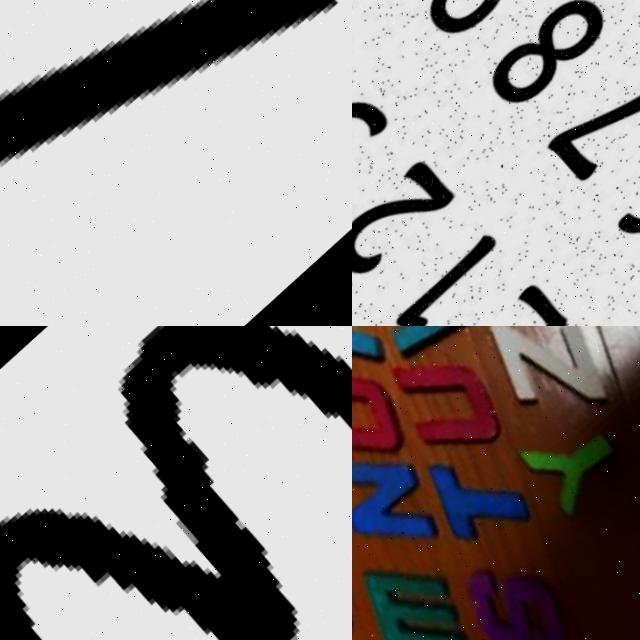1: (376, 218, 518, 326)
2: (352, 138, 473, 310)
3: (0, 326, 352, 640), (352, 72, 402, 231)
6: (588, 113, 640, 286)
7: (528, 55, 640, 209)
8: (464, 0, 631, 142)
9: (398, 0, 566, 71)
L: (0, 0, 344, 326)
M: (352, 542, 490, 640)
N: (352, 424, 465, 586)
O: (352, 336, 419, 487)
S: (447, 542, 588, 640)
T: (408, 430, 544, 577)
U: (378, 330, 518, 482)
V: (352, 326, 474, 376)
Y: (520, 408, 633, 527)
Z: (463, 326, 625, 451)
